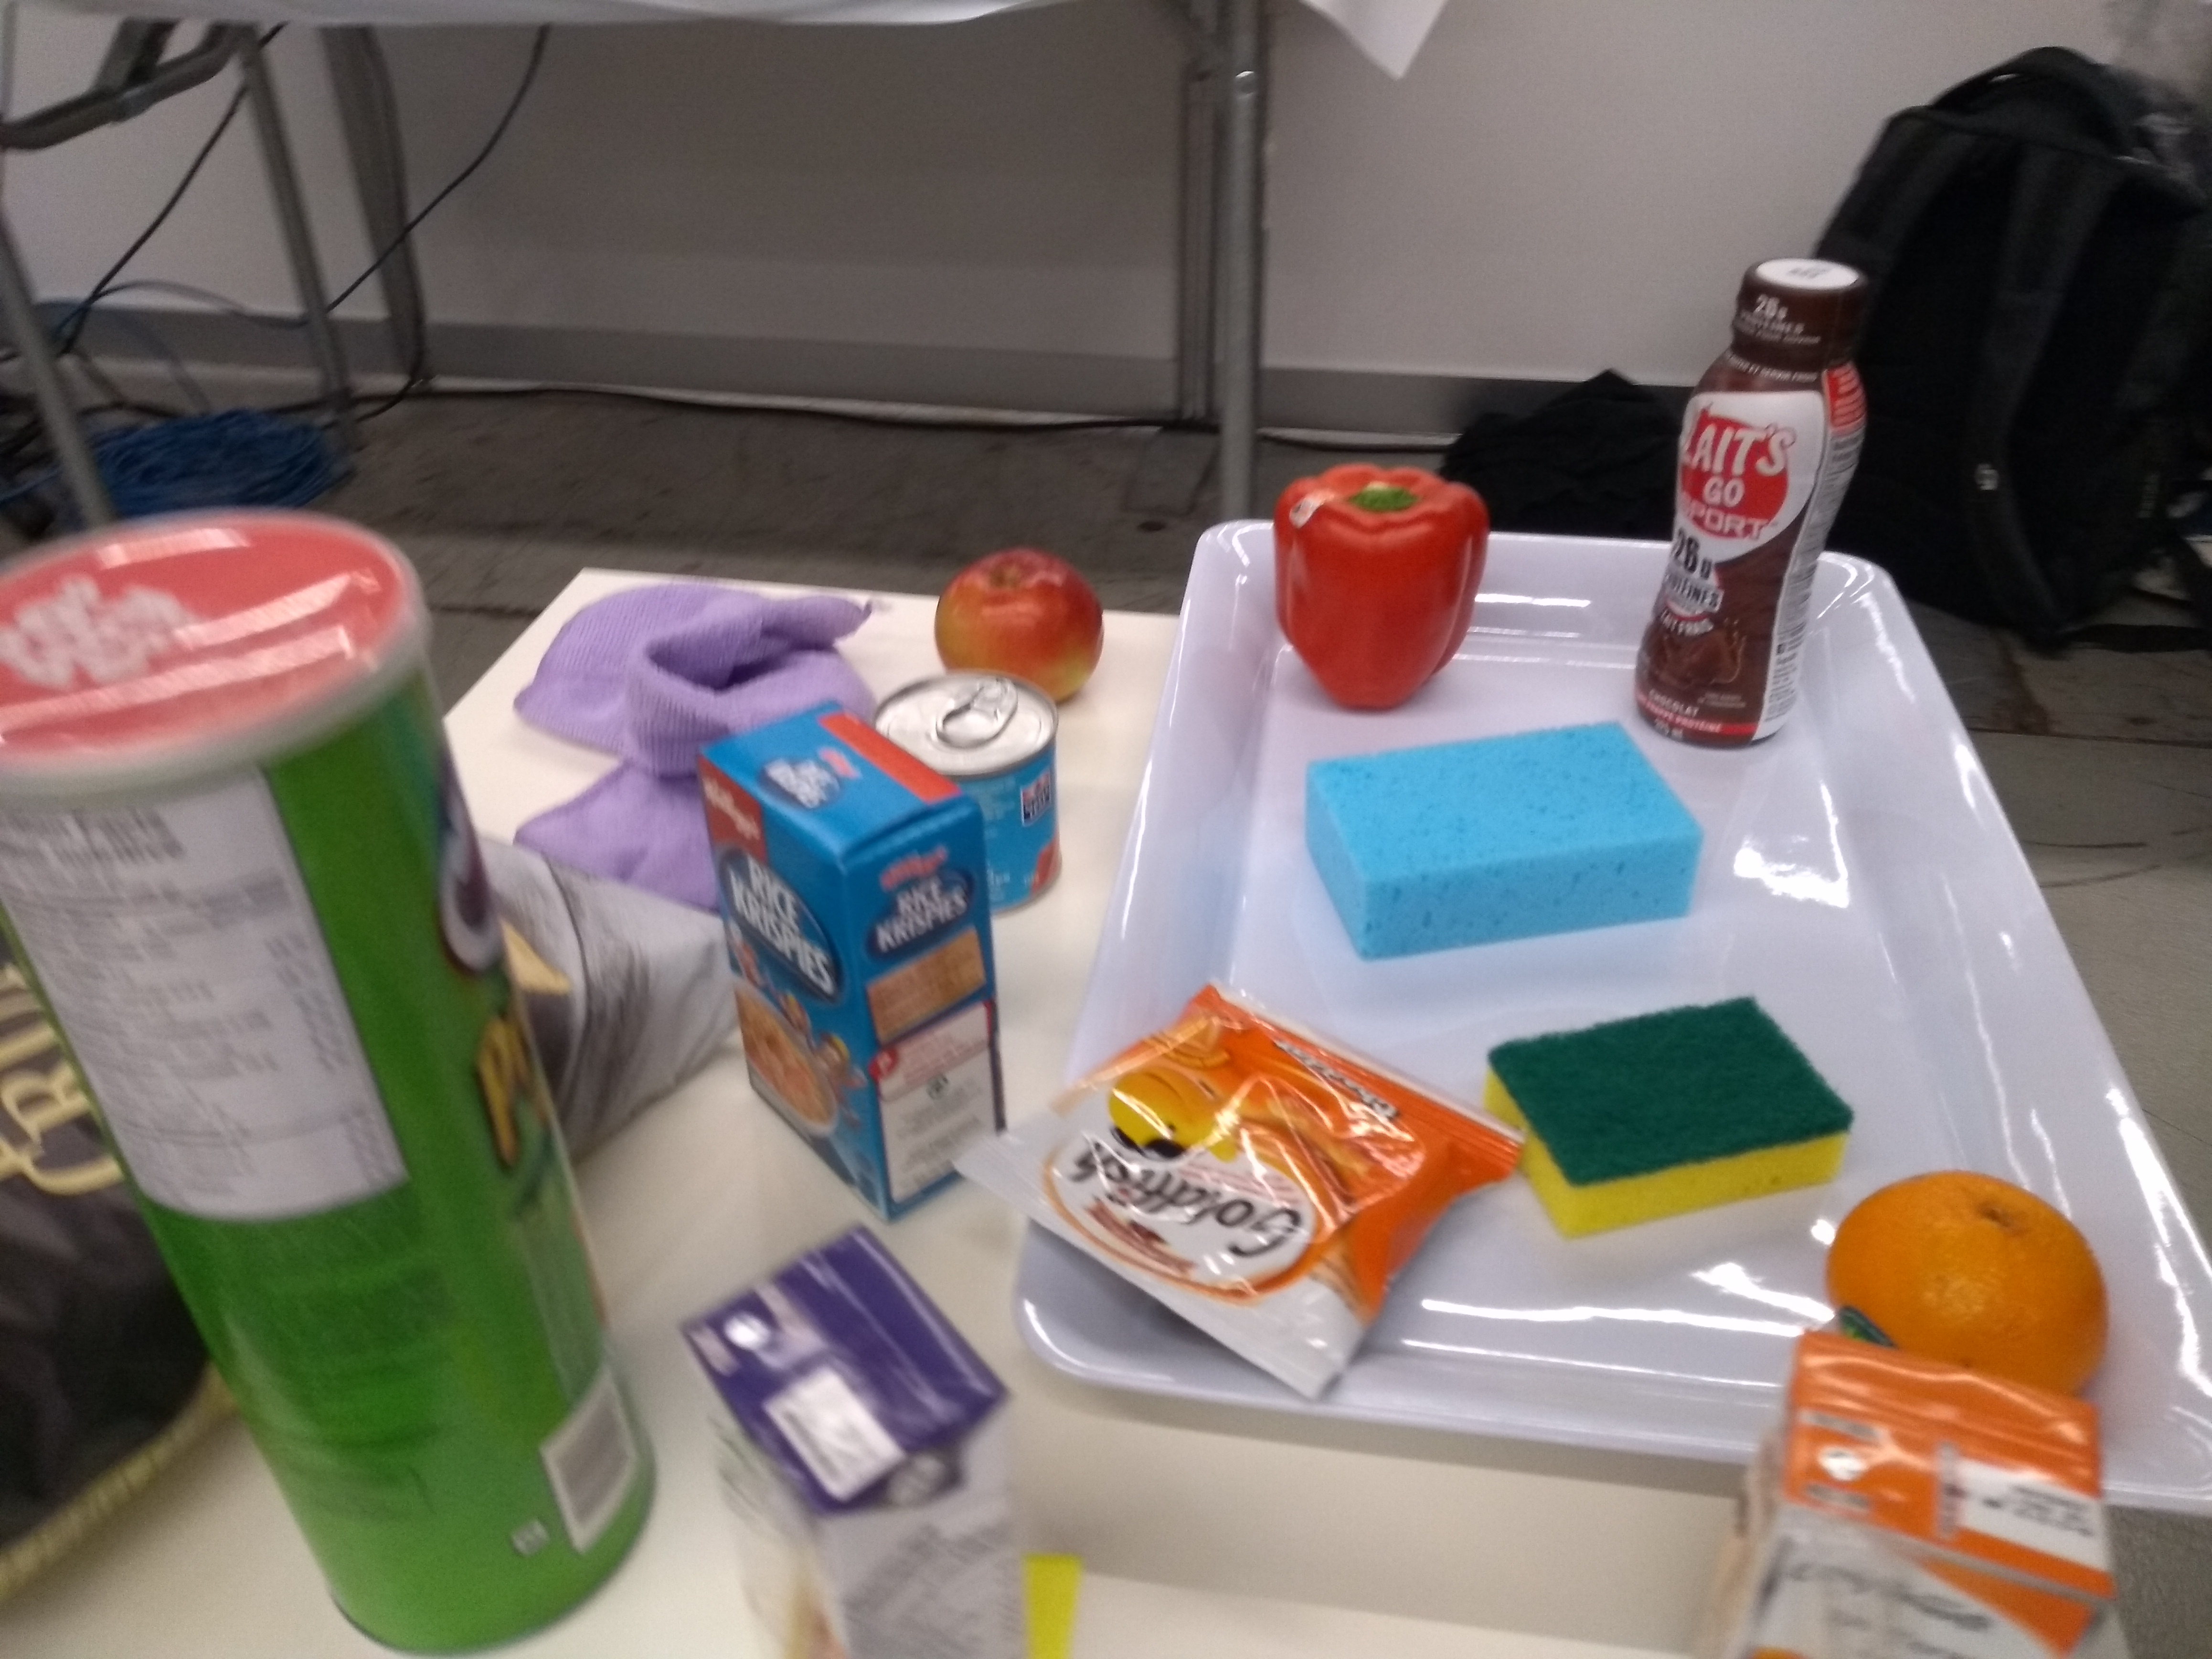apple: (932, 542, 1108, 709)
cereal: (688, 701, 1014, 1225)
chocolate_drink: (1625, 247, 1898, 758)
crackers: (937, 974, 1529, 1412)
orange: (1818, 1157, 2113, 1398)
paprika: (1266, 458, 1494, 720)
pringles: (0, 491, 674, 1659)
scrubby: (1465, 985, 1860, 1248)
sponge_opl: (1292, 706, 1716, 976)
